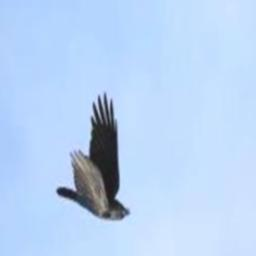Crow: (57, 92, 131, 220)
